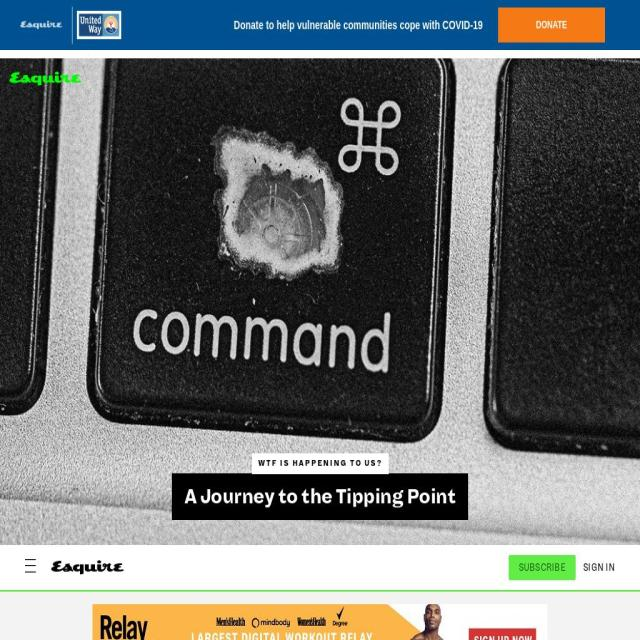button: (0, 58, 640, 545), (498, 8, 606, 42), (508, 554, 576, 580), (51, 555, 124, 579), (501, 17, 602, 33), (9, 71, 82, 86), (583, 561, 616, 573)
heading: (184, 481, 456, 512), (9, 71, 82, 86)
iframe: (92, 603, 548, 640)
image: (51, 555, 124, 579), (76, 11, 122, 39), (19, 20, 64, 30)
text: (0, 58, 640, 545), (251, 453, 389, 475), (234, 18, 443, 32), (442, 18, 482, 32), (583, 561, 616, 573)
